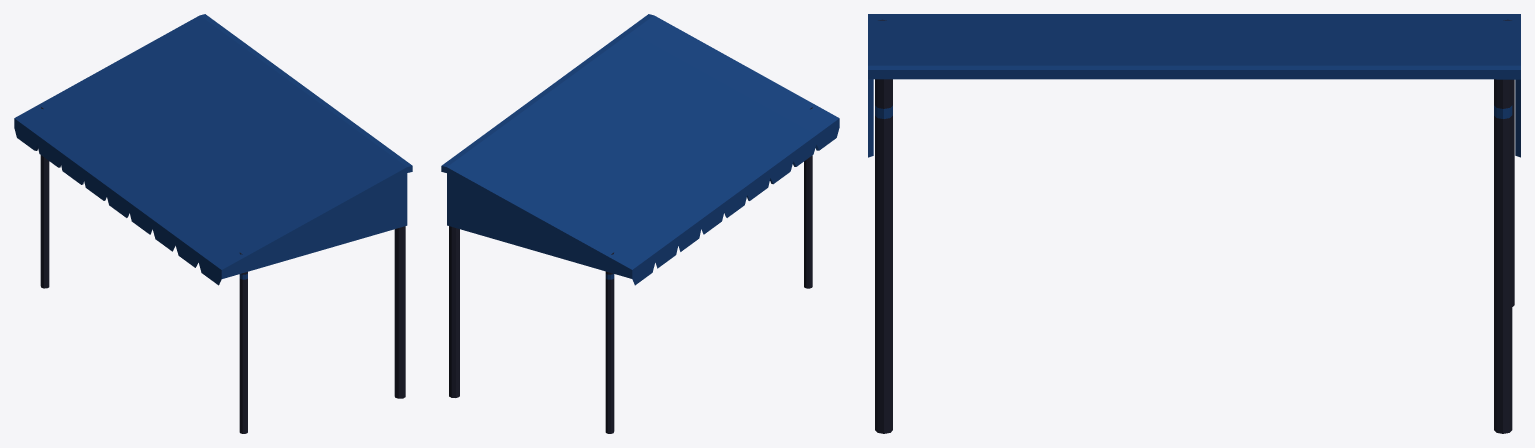
The model's file is Town_Awning03.fbx.
3 renders of one model, left to right at view 1: azimuth 30°, elevation 25°; view 2: azimuth 150°, elevation 25°; view 3: azimuth 270°, elevation 25°, orthographic. The views are drawn at different scales.
Parts seen in each view (by area): view 1: Cube.560; view 2: Cube.560; view 3: Cube.560.
Boxes of the visible parts, x1,y1,x2,y2 form: Cube.560: (14,14,412,433); Cube.560: (441,14,839,433); Cube.560: (868,14,1520,433).
Size of the model in its own units: 189 by 220 by 355.
